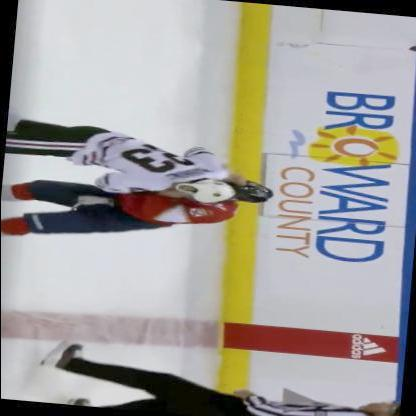voilence: (1, 118, 279, 258)
